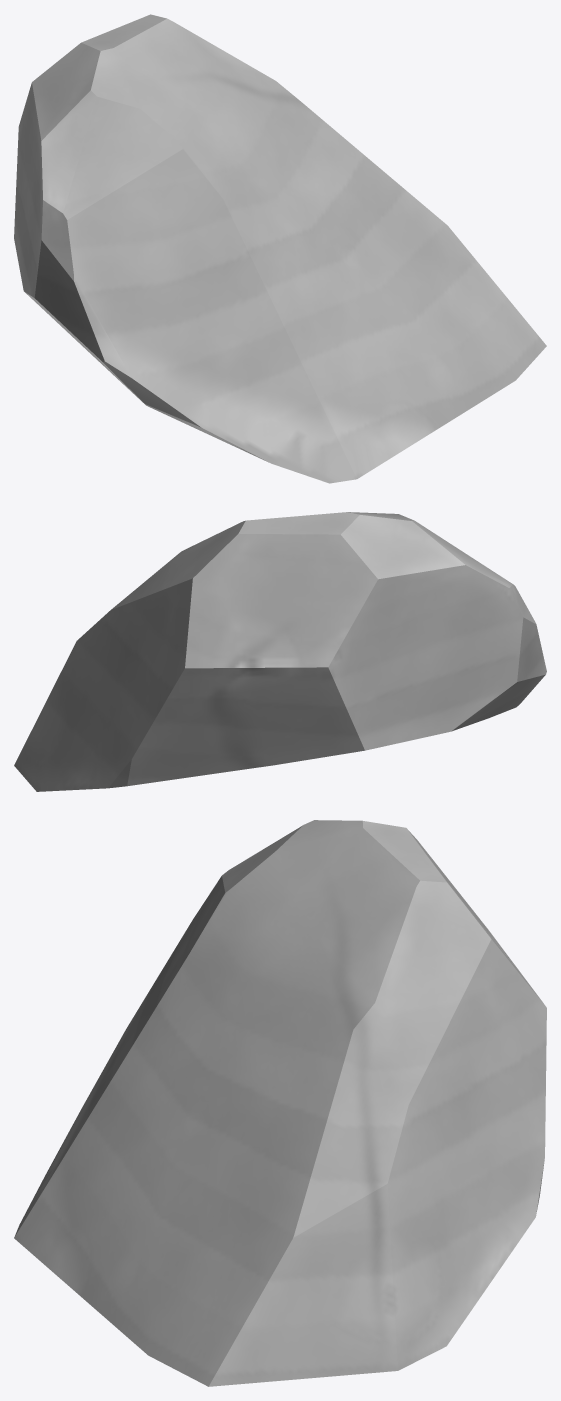
File: sculpted_stone_01.glb
3 renders of one model, top to bottom at view 1: azimuth 30°, elevation 25°; view 2: azimuth 150°, elevation 25°; view 3: azimuth 270°, elevation 25°, orthographic. The views are drawn at different scales.
Parts seen in each view (by area): view 1: sculpted_stone_01; view 2: sculpted_stone_01; view 3: sculpted_stone_01.
Part boxes in pixels (bbox=[...]): sculpted_stone_01: bbox=[14, 14, 546, 483]; sculpted_stone_01: bbox=[14, 512, 546, 791]; sculpted_stone_01: bbox=[14, 820, 546, 1386].
Size of the model in its own units: 0.2875 by 0.1874 by 0.2475.
1 material, 1 textured.
